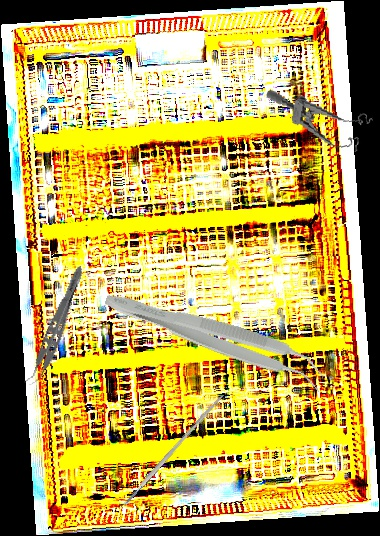Scalpel Handle: (121, 393, 225, 507)
Speculum: (258, 88, 377, 155)
Tissue Forceps: (98, 285, 331, 393), (22, 261, 87, 390)
